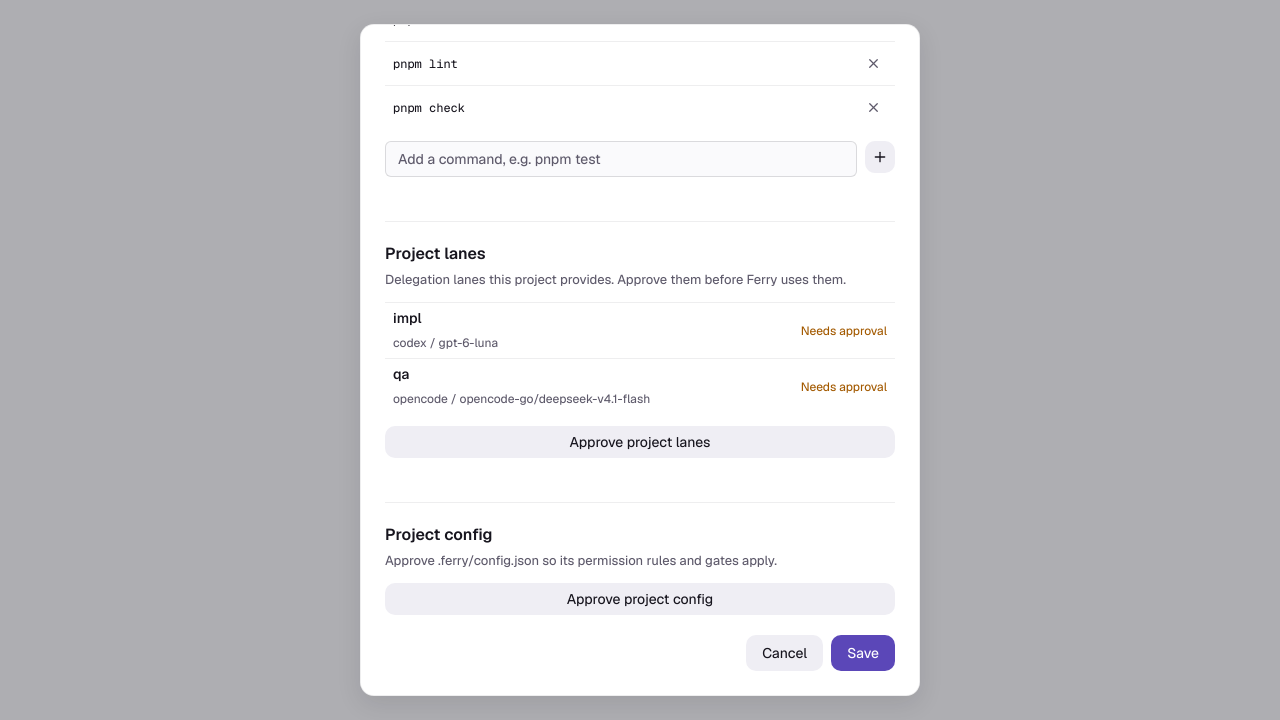
it: EditProjectDialog › approves project lanes
(page scrolled)
Expected: the dialog "Edit project" is shown, [360, 24, 920, 696]
Click the button "Approve project lanes" at (640, 442), box [385, 426, 895, 458]
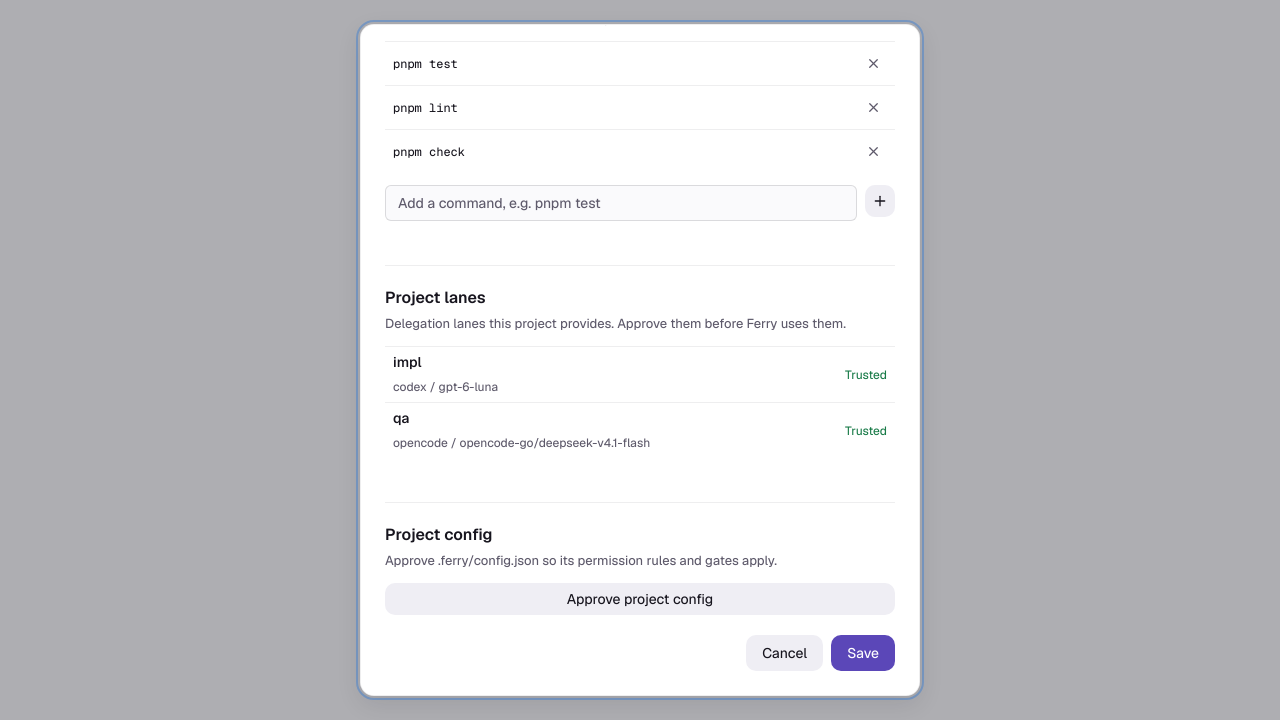
Expected: the button "Approve project lanes" is gone
Expected: the text "Trusted" in the row of "impl" is shown, [845, 366, 887, 382]
Expected: the text "Needs approval" is gone
